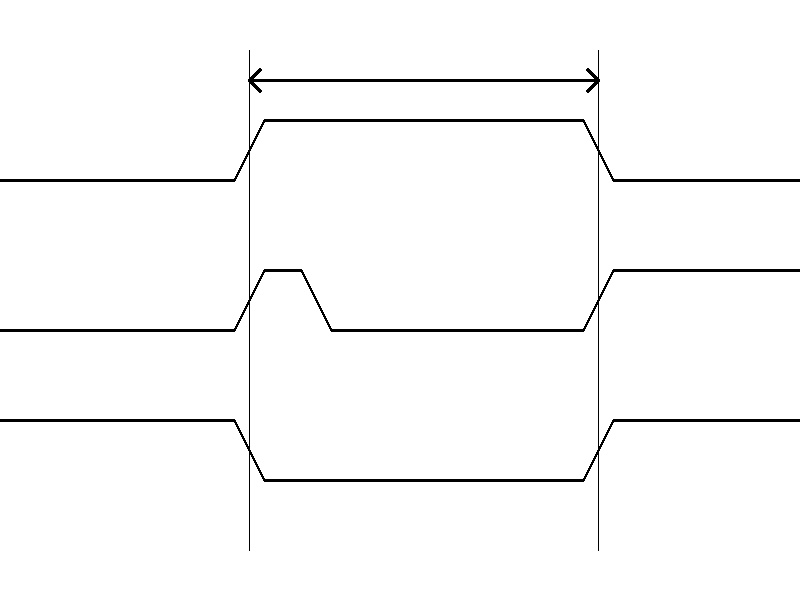double_arrow: (249, 65, 598, 95)
